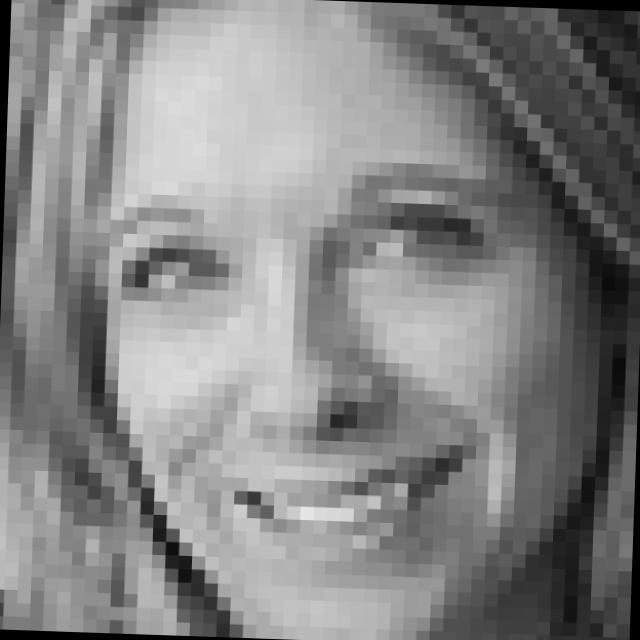happy: (100, 153, 541, 586)
